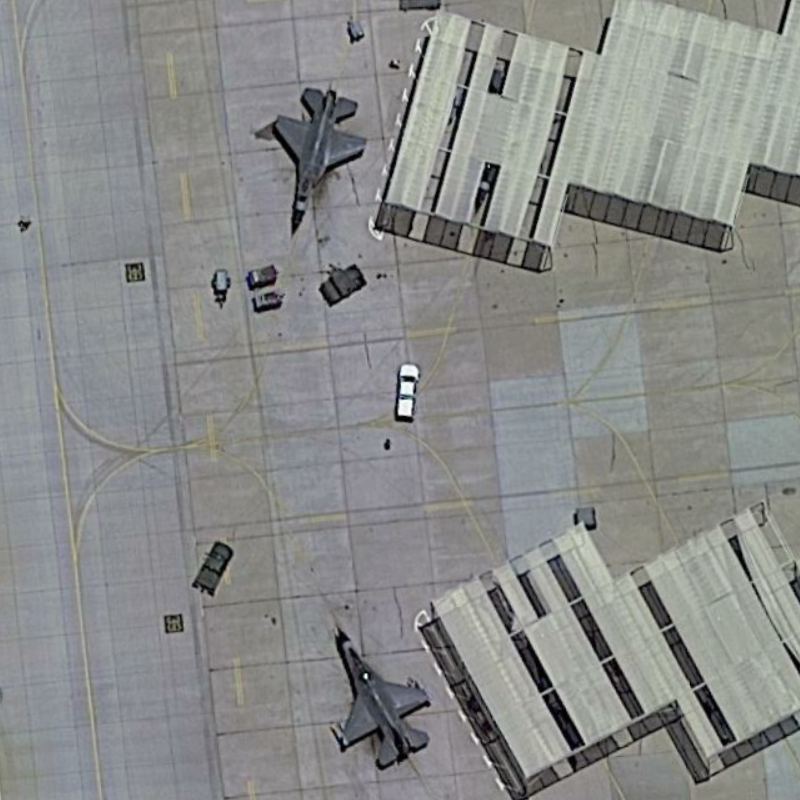A5: (321, 606, 435, 772), (265, 77, 373, 241)
